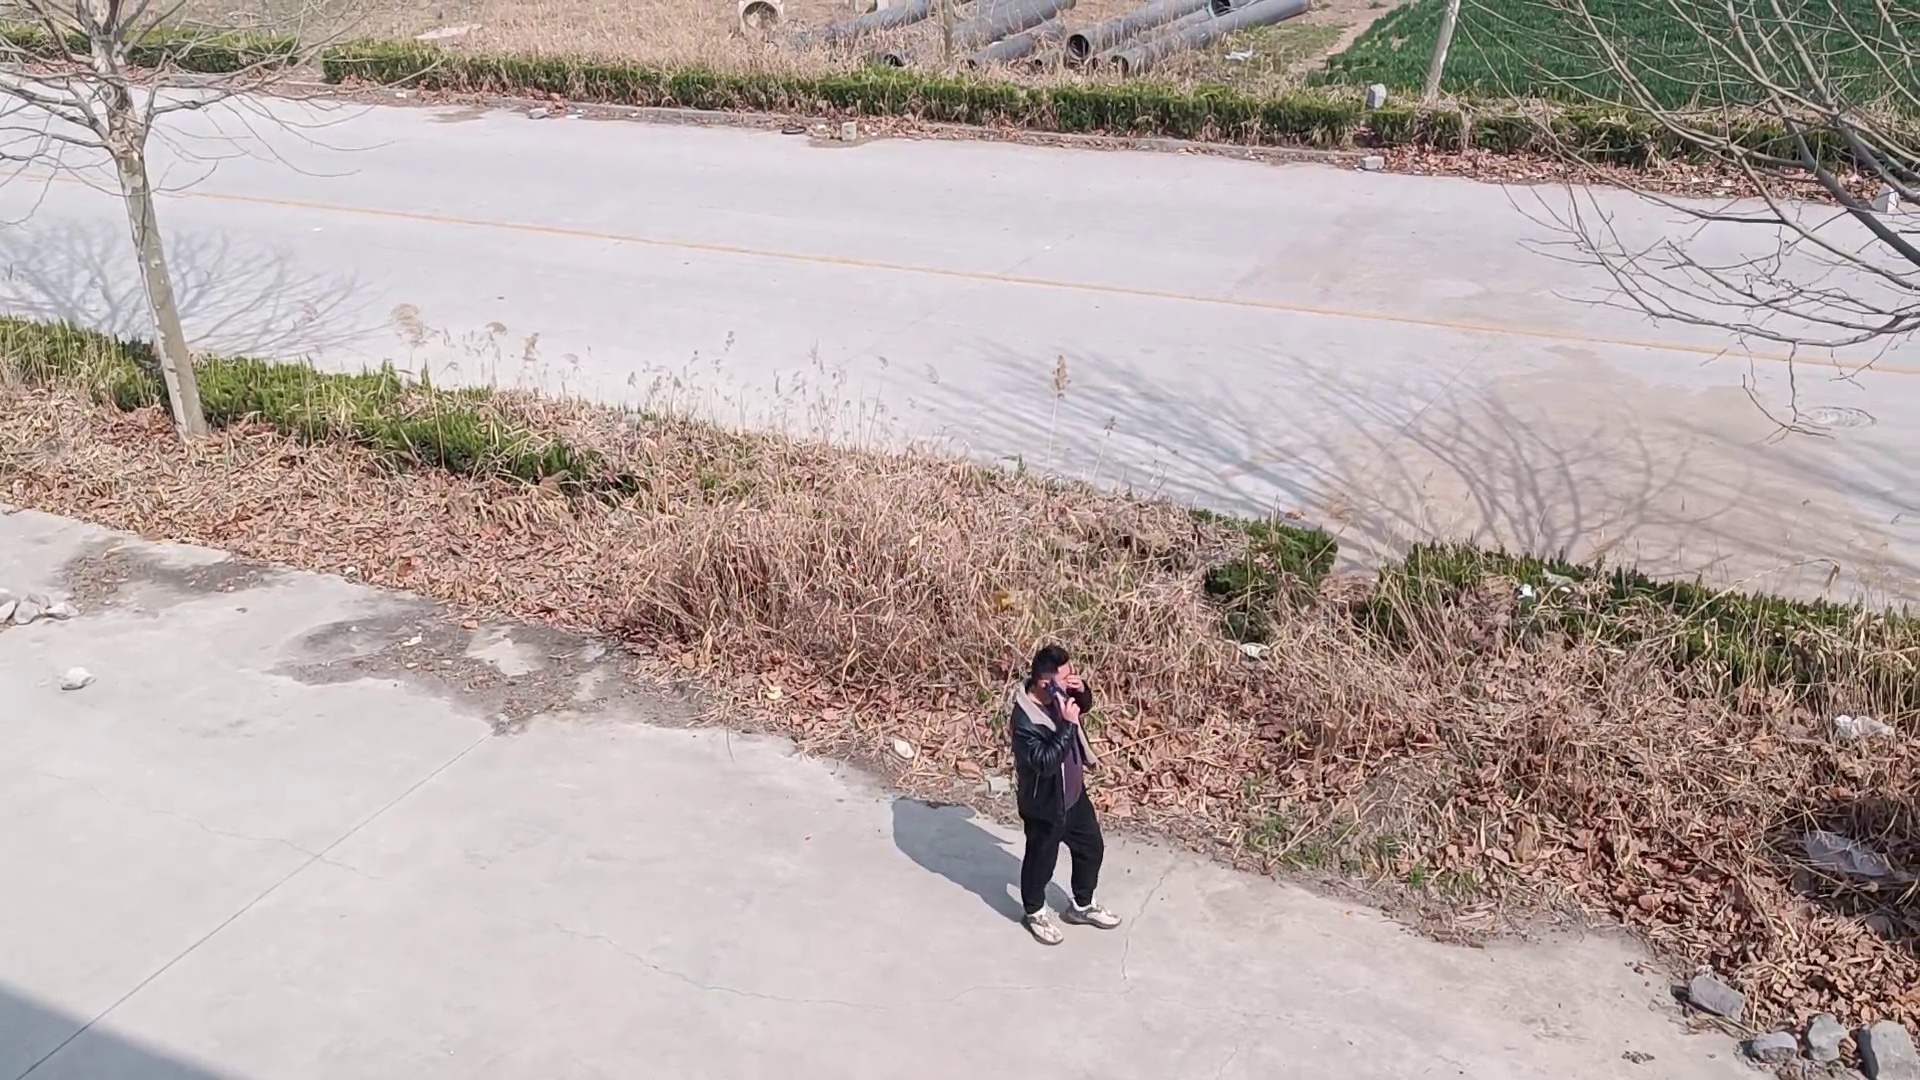phone: (1030, 646, 1072, 705)
